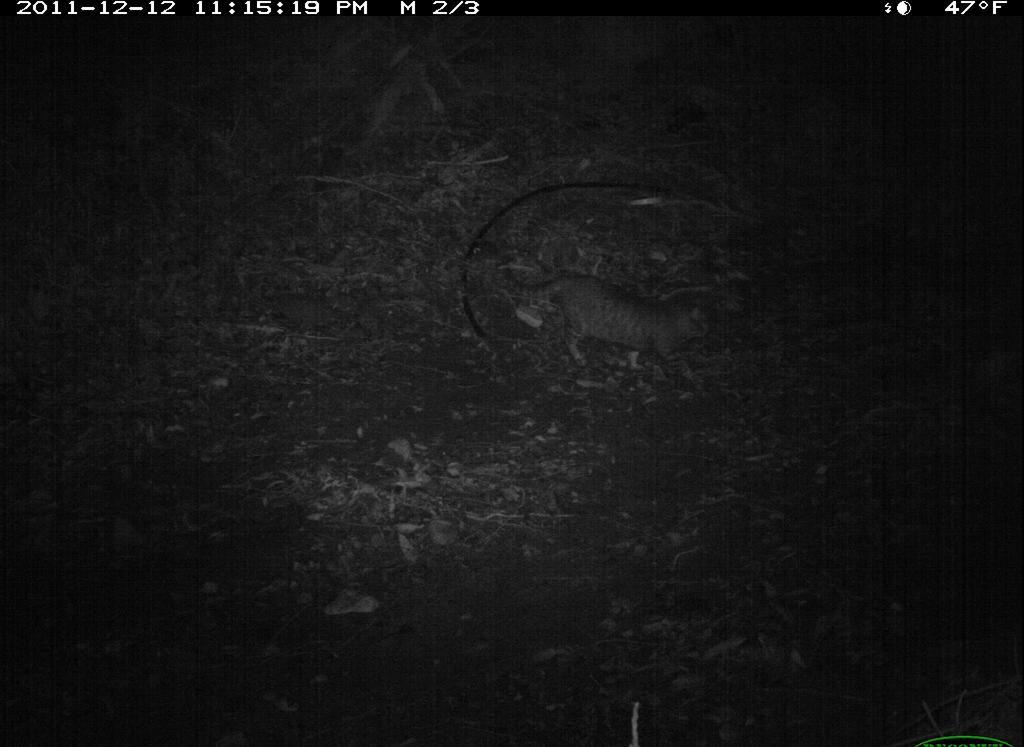cat: (500, 259, 727, 392)
